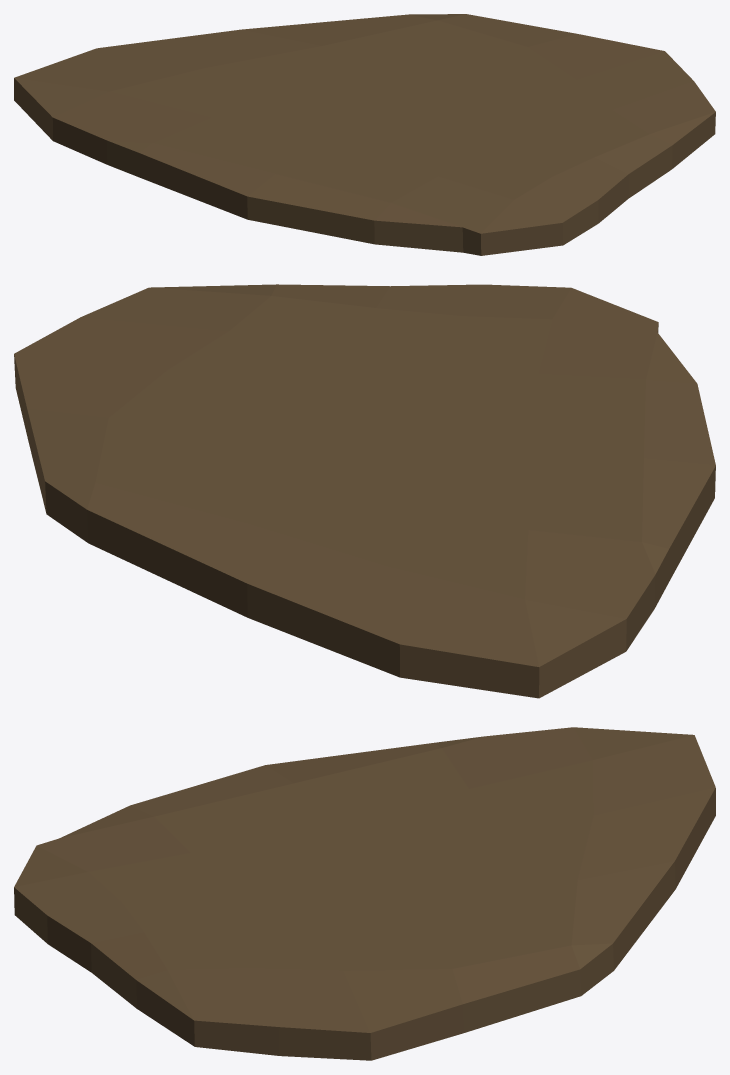
The model's file is RockPlate01.fbx.
The picture shows the model from 3 angles, top to bottom: view 1: azimuth 30°, elevation 25°; view 2: azimuth 150°, elevation 25°; view 3: azimuth 270°, elevation 25°; orthographic projection. The views are drawn at different scales.
Parts seen in each view (by area): view 1: Plane.041; view 2: Plane.041; view 3: Plane.041.
Part boxes in pixels (x1=…): Plane.041: x1=14, y1=14, x2=715, y2=255; Plane.041: x1=14, y1=284, x2=715, y2=698; Plane.041: x1=14, y1=727, x2=715, y2=1060.
Bounding box in the file's own units: 828 × 47.65 × 803.
